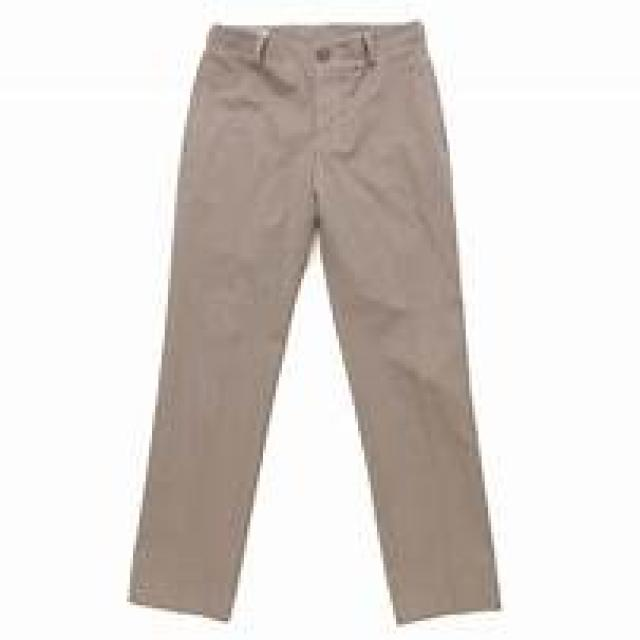long-pants: (133, 19, 504, 625)
